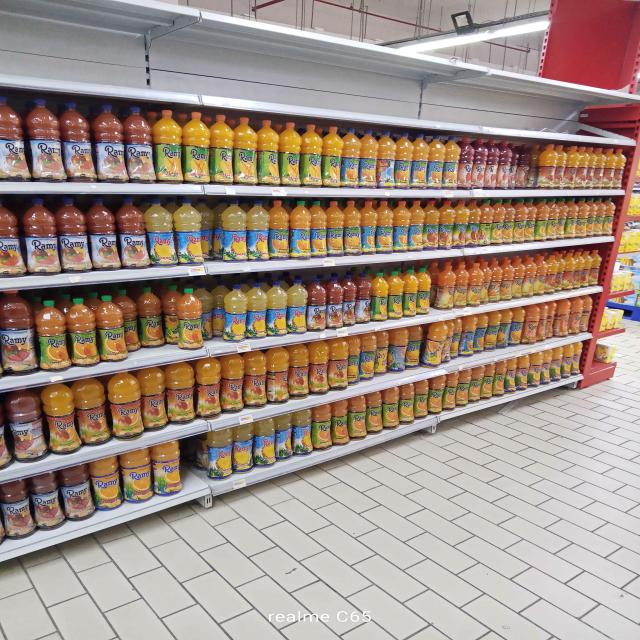PET Ramy Ananas 1 L: (224, 286, 246, 340)
PET Ramy Ananas 125 L: (170, 200, 207, 263)
PET Ramy Grenadin 1 L: (562, 250, 574, 290)
PET Ramy Grenadin 2 L: (566, 146, 582, 188)
PET Ramy Or-Carotte-Citron 1 L: (467, 261, 486, 307)
PET Ramy Orange 1 L: (22, 294, 69, 369)
PET Ramy Orange 125 L: (534, 198, 550, 242)
PET Ramy Orange 2 L: (96, 452, 122, 503)
PET Ramy Peche 125 L: (428, 202, 478, 249)
Pack Ramy Fraise 2L: (486, 140, 500, 190)
Pack Ramy Mangue 1 L: (402, 270, 418, 318)
Pack Ramy Mangue 2 L: (231, 114, 257, 186)
Pack Ramy Or-Ananas 125 L: (272, 205, 287, 256)
Pack Ramy Or-Ananas 2 L: (394, 130, 412, 188)
Pack Ramy Peche-Fraise 125L: (80, 200, 121, 268)
Pack Ramy Peche-Fraise 1L: (327, 277, 345, 328)
Pack Ramy Peche-Fraise 2L: (93, 102, 126, 183)
Pet Ramy Orange 2L: (87, 456, 122, 510), (147, 445, 181, 495), (124, 452, 154, 502), (346, 396, 371, 440), (314, 406, 336, 449), (363, 390, 382, 430), (383, 388, 402, 428), (398, 380, 415, 422), (454, 368, 472, 404), (427, 375, 444, 413), (334, 404, 350, 444), (444, 373, 459, 411), (492, 357, 507, 394), (415, 383, 430, 418), (516, 354, 530, 391), (482, 362, 495, 398), (472, 366, 483, 402), (534, 353, 544, 384), (508, 359, 516, 393)
pet ramy ananas 2L: (174, 204, 206, 265), (218, 202, 249, 262), (150, 200, 177, 262), (210, 428, 239, 482), (248, 199, 270, 261), (245, 280, 268, 338), (252, 417, 276, 468), (272, 276, 292, 334), (233, 420, 254, 473), (293, 281, 308, 332), (276, 414, 293, 456)
